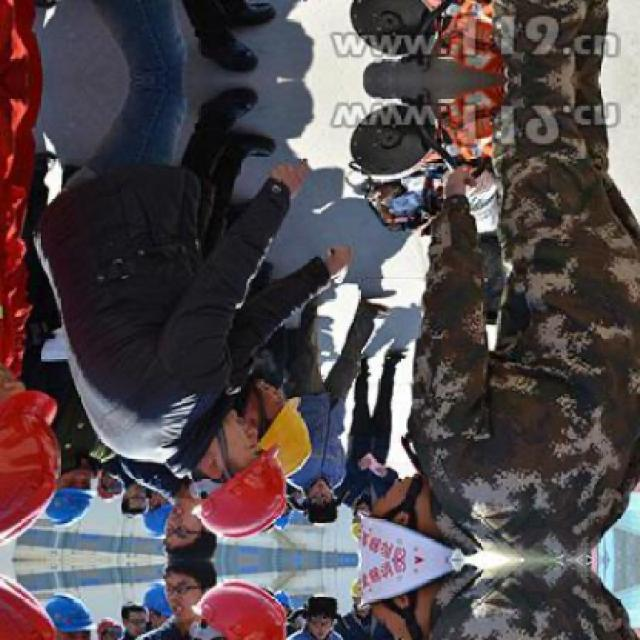con casco: (168, 392, 289, 560), (358, 465, 486, 580), (260, 378, 316, 490)
